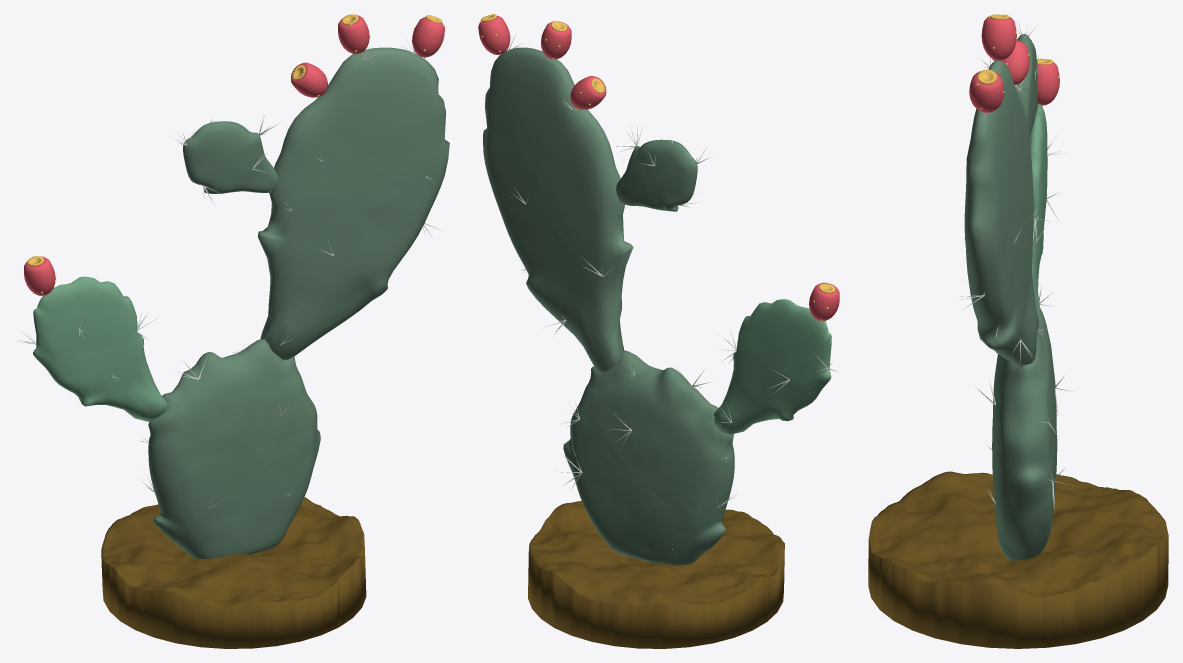
The model's file is cactus.glb.
3 renders of one model, left to right at view 1: azimuth 30°, elevation 25°; view 2: azimuth 150°, elevation 25°; view 3: azimuth 270°, elevation 25°, orthographic. The views are drawn at different scales.
Visible parts, largest first — view 1: body 002, body 001, Circle, body 003, body 004, pear.002, pear.001, pear, pear.003; view 2: body 002, body 001, Circle, body 003, body 004, pear.002, pear.001, pear, pear.003; view 3: Circle, body 002, body 001, body 003, pear, body 004, pear.002, pear.001, pear.003.
Part boxes in pixels (bbox=[...]): body 002: bbox=[257, 40, 449, 359]; body 001: bbox=[138, 339, 320, 558]; Circle: bbox=[101, 497, 366, 648]; body 003: bbox=[18, 276, 167, 421]; body 004: bbox=[170, 115, 279, 204]; pear.002: bbox=[412, 17, 445, 58]; pear.001: bbox=[24, 256, 56, 295]; pear: bbox=[338, 15, 370, 54]; pear.003: bbox=[291, 62, 327, 97]; body 002: bbox=[483, 36, 633, 372]; body 001: bbox=[555, 350, 737, 565]; Circle: bbox=[528, 501, 784, 648]; body 003: bbox=[714, 299, 837, 434]; body 004: bbox=[616, 125, 710, 211]; pear.002: bbox=[478, 16, 510, 54]; pear.001: bbox=[809, 282, 839, 321]; pear: bbox=[541, 21, 571, 59]; pear.003: bbox=[570, 76, 606, 109]; Circle: bbox=[868, 471, 1168, 648]; body 002: bbox=[956, 57, 1046, 368]; body 001: bbox=[974, 297, 1073, 560]; body 003: bbox=[1029, 103, 1064, 306]; pear: bbox=[981, 15, 1016, 60]; body 004: bbox=[1016, 22, 1050, 135]; pear.002: bbox=[969, 71, 1004, 112]; pear.001: bbox=[1037, 62, 1059, 105]; pear.003: bbox=[994, 40, 1029, 84].
Bounding box in the file's own units: 3.5 × 4.65 × 2.
